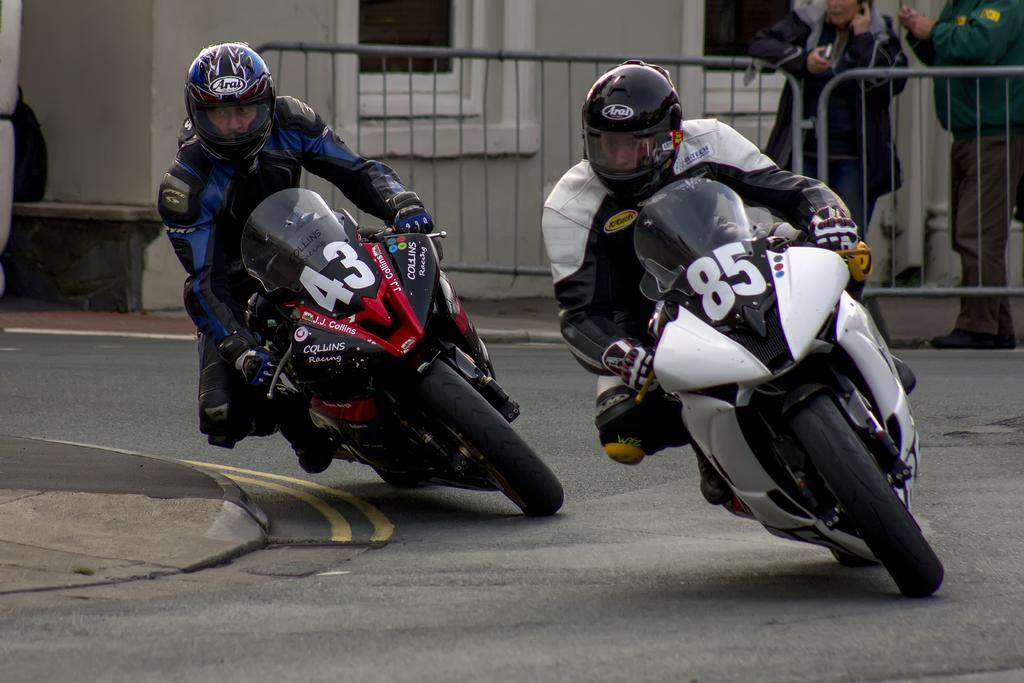helmet: (580, 58, 686, 200), (183, 40, 278, 166)
